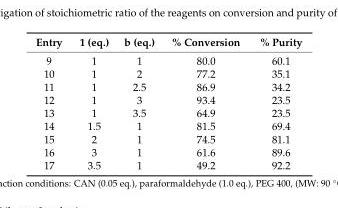table: (34, 34, 301, 171)
table column: (162, 34, 249, 171), (249, 34, 301, 171), (115, 34, 162, 171), (70, 34, 115, 171), (34, 34, 70, 171)
table column header: (34, 34, 301, 50)
table row: (34, 34, 301, 50), (34, 50, 301, 66), (34, 105, 301, 119), (34, 66, 301, 79), (34, 79, 301, 92), (34, 92, 301, 105), (34, 119, 301, 132), (34, 132, 301, 145), (34, 145, 301, 158), (34, 158, 301, 171)
